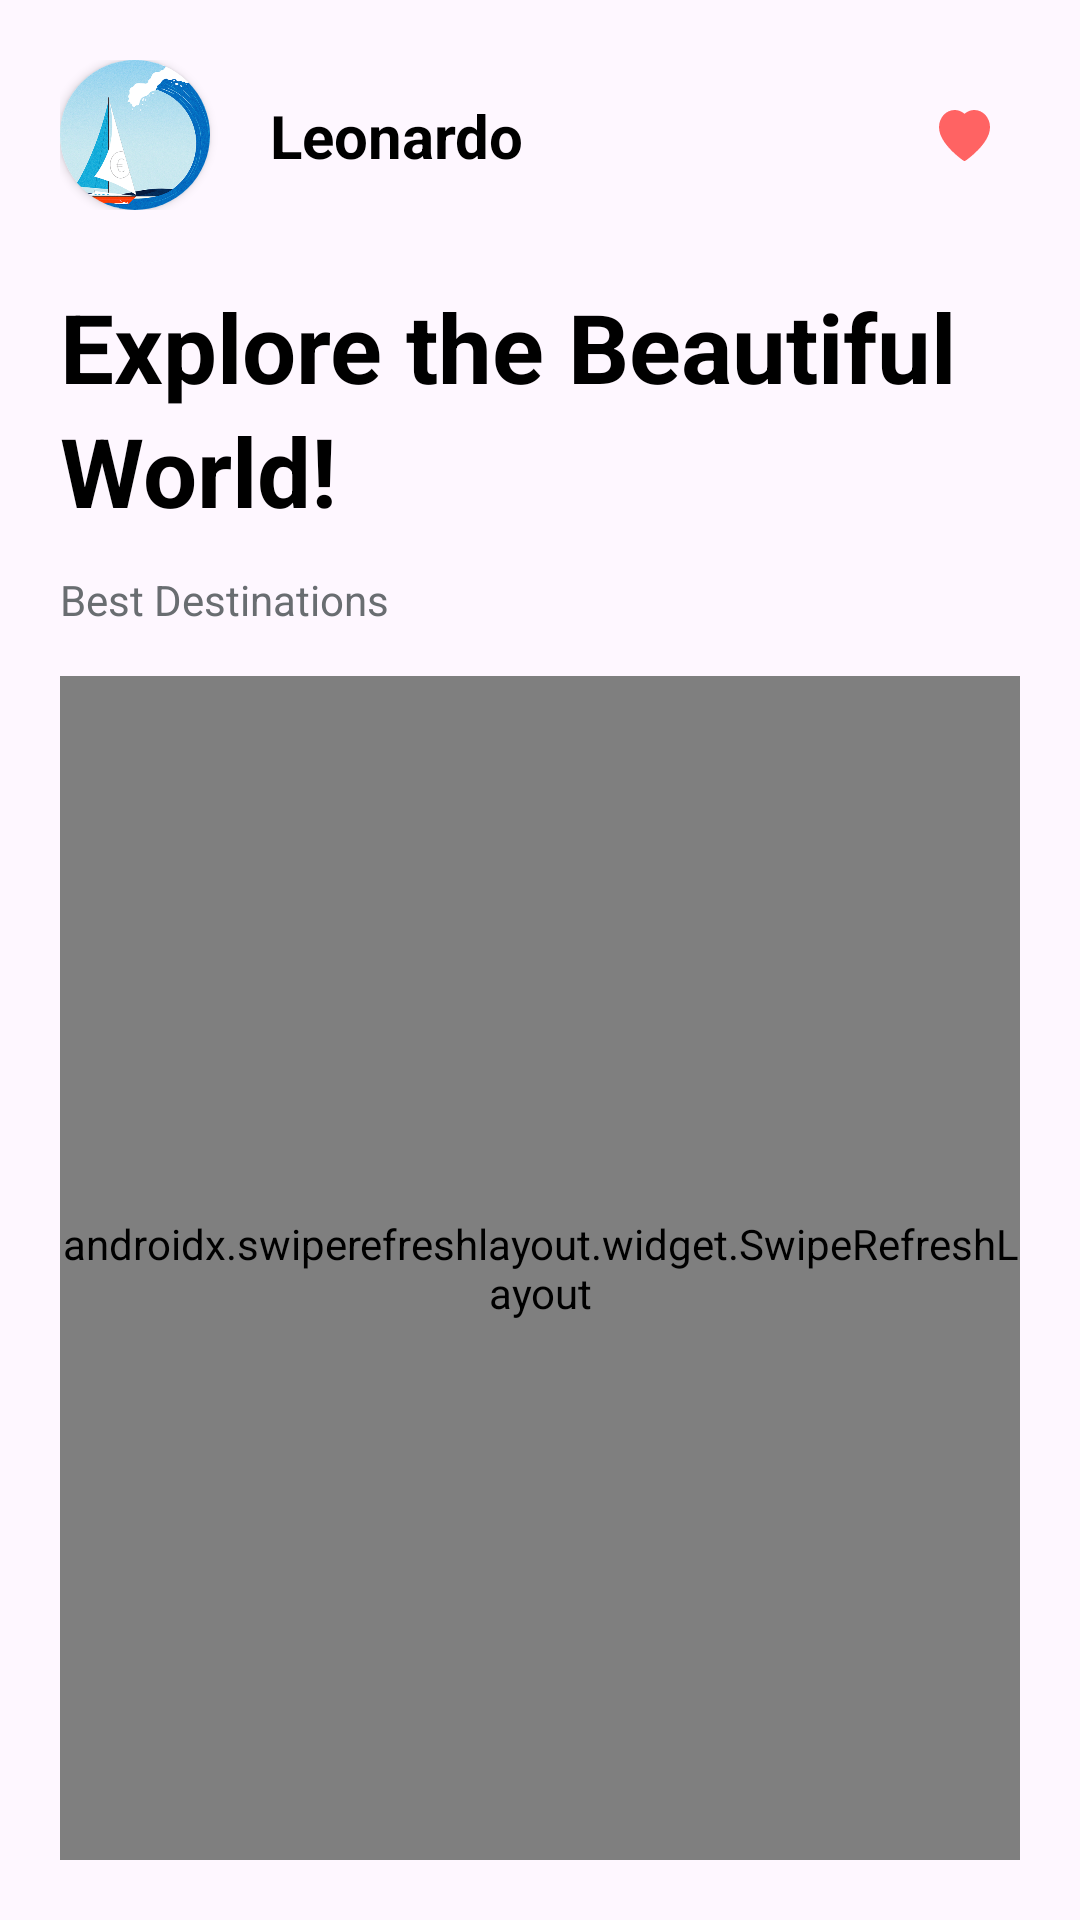

Locate icon controls on the screen. Image size 1080x1920, boxes as (x1, y1, x2, y2).
like: (939, 110, 990, 161)
